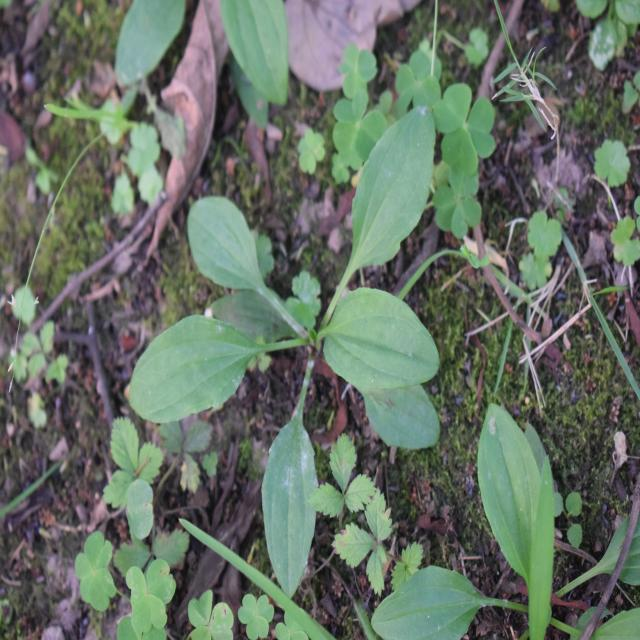plantain: (128, 108, 452, 511)
